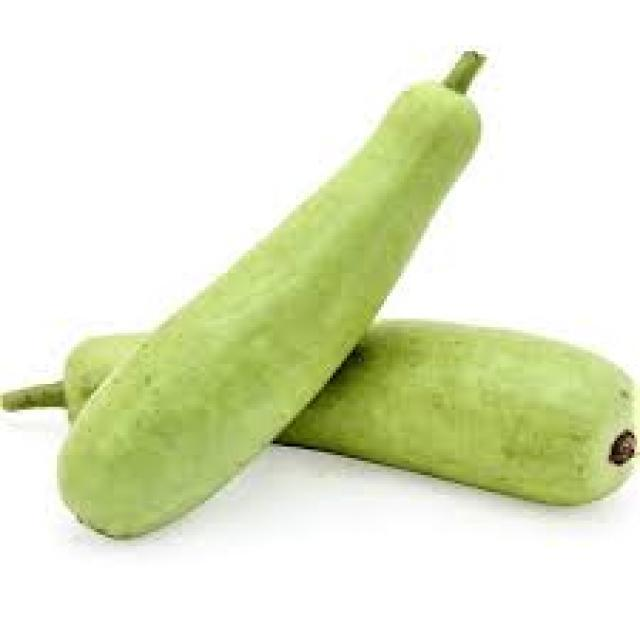Bottle Gourd: (62, 286, 628, 556), (141, 42, 477, 406)
